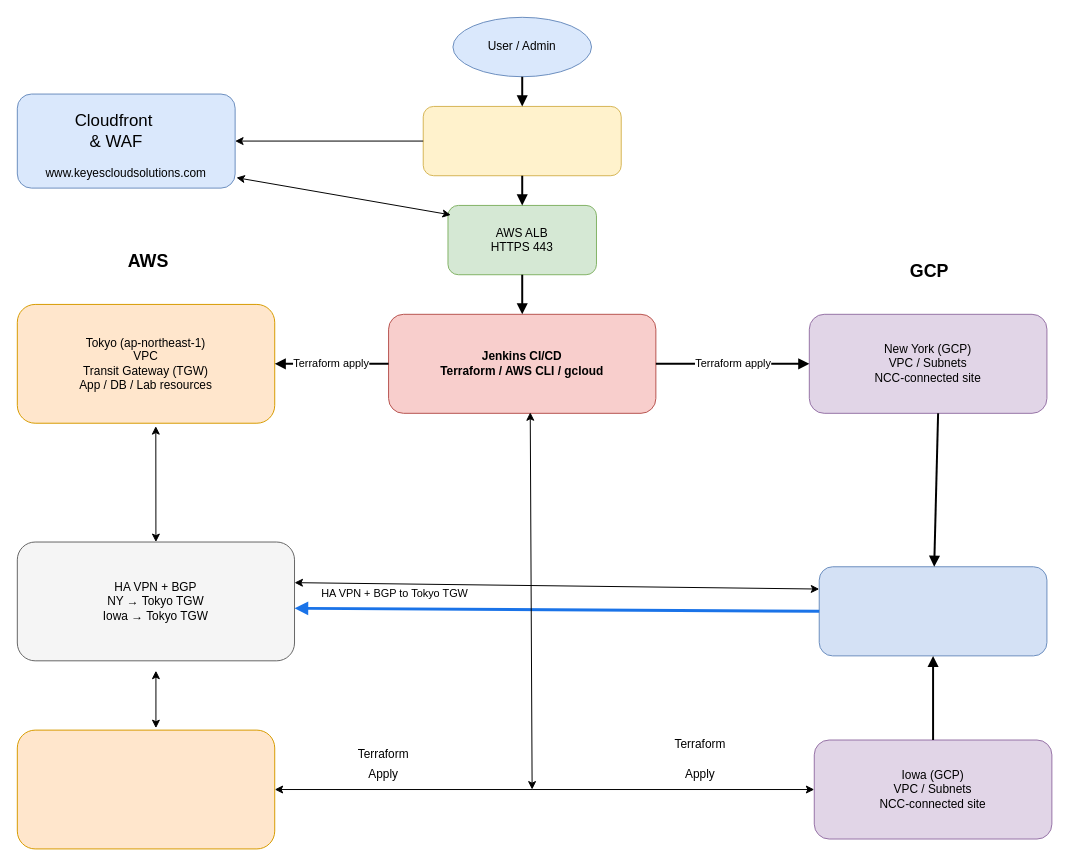
Some shapes in this 1069 by 866 pixel diagram are drawn without their labels. Each missing label, with the centre of its shape:
"Network Connectivity Center (NCC) Hub / Spokes" belongs at (x=932, y=611).
"Route 53 jenkins.keyescloudsolutions.com" belongs at (x=521, y=140).
"São Paulo (sa-east-1) VPC Transit Gateway (TGW) Regional resources" belongs at (x=145, y=789).
